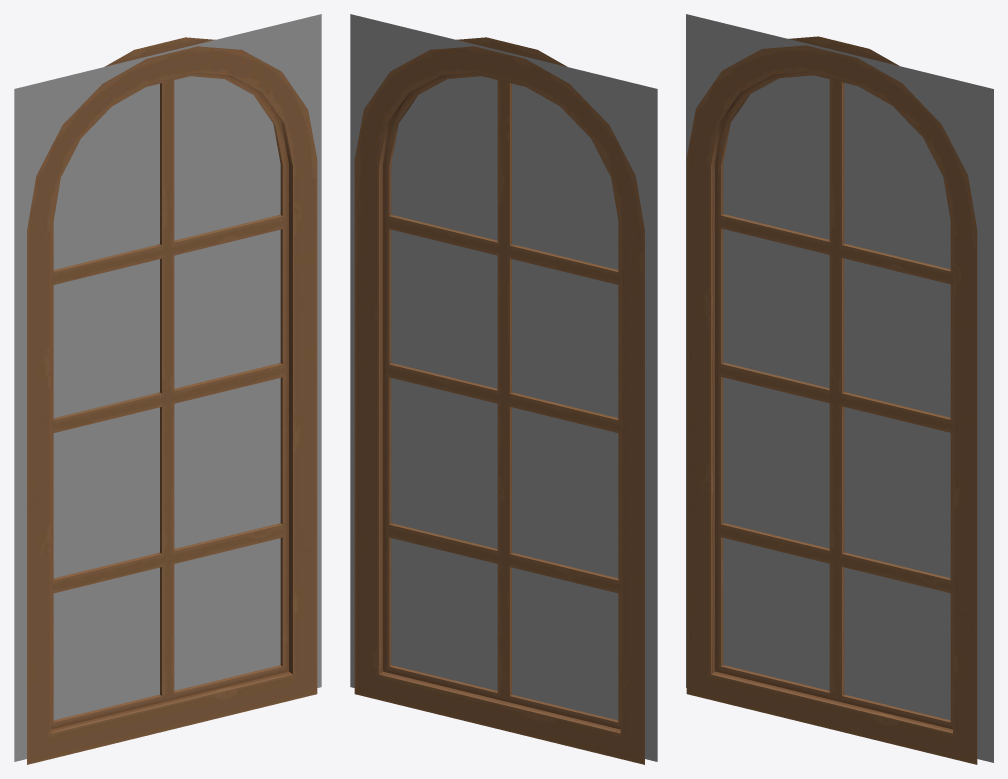
File: ARC0510042.fbx
The picture shows the model from 3 angles, left to right: view 1: azimuth 30°, elevation 25°; view 2: azimuth 150°, elevation 25°; view 3: azimuth 330°, elevation 25°; orthographic projection.
Visible parts, largest first — view 1: smARC0510042; view 2: smARC0510042; view 3: smARC0510042.
Boxes of the visible parts, x1,y1,x2,y2 form: smARC0510042: (14, 14, 321, 764); smARC0510042: (350, 14, 657, 764); smARC0510042: (686, 14, 993, 764).
Bounding box in the file's own units: 215 × 453 × 14.88.
Materials: 2 (1 with a texture image).
